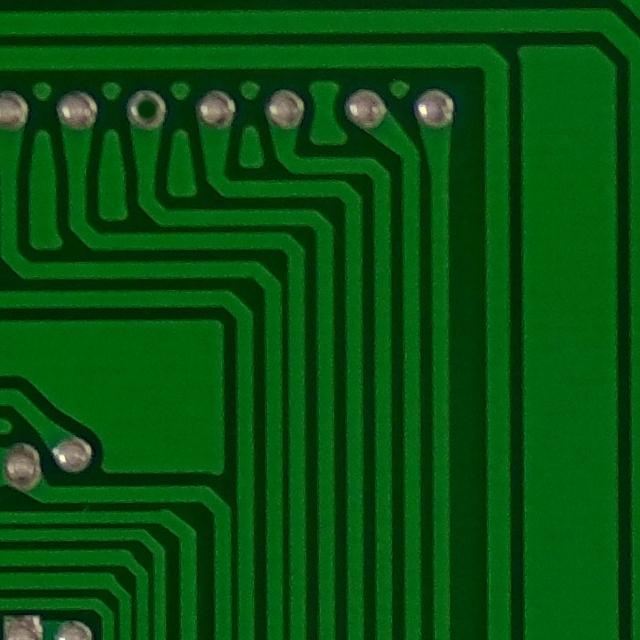missing_hole: (115, 75, 184, 138)
